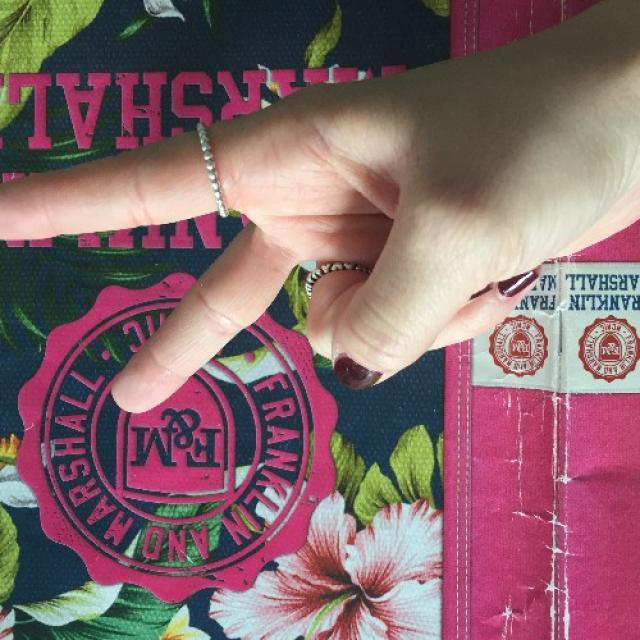scissors: (7, 79, 640, 419)
